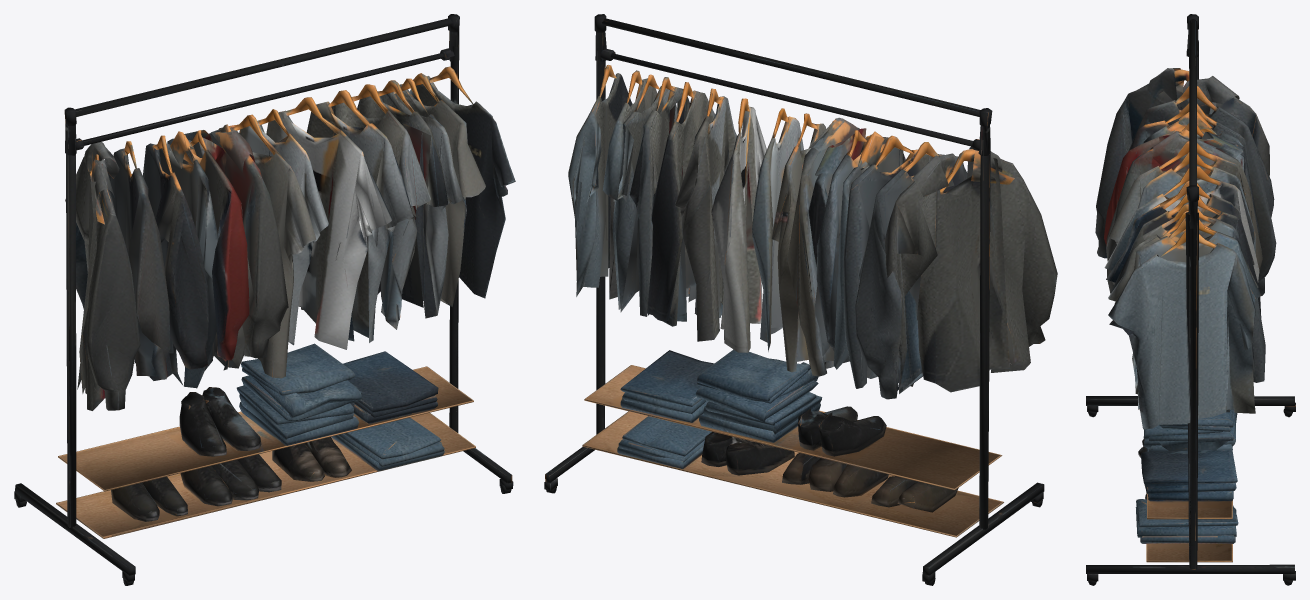
Rendered from interior-clothing-rail.glb.
The picture shows the model from 3 angles, left to right: view 1: azimuth 30°, elevation 25°; view 2: azimuth 150°, elevation 25°; view 3: azimuth 270°, elevation 25°; orthographic projection. The views are drawn at different scales.
Size of the model in its own units: 0.9536 by 0.9204 by 0.439.
1 material, 1 textured.
